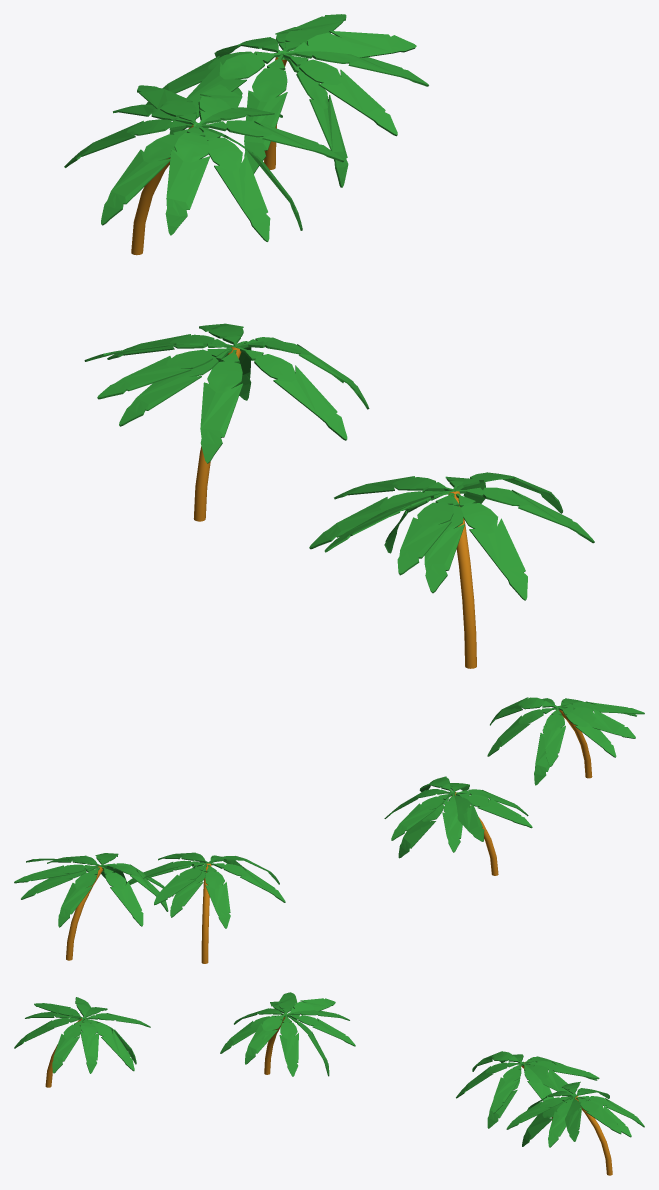
The model's file is Coqueiros.fbx.
The picture shows the model from 3 angles, top to bottom: view 1: azimuth 30°, elevation 25°; view 2: azimuth 150°, elevation 25°; view 3: azimuth 270°, elevation 25°; orthographic projection. The views are drawn at different scales.
Parts seen in each view (by area): view 1: Cylinder001.001, Cylinder001.002, Cylinder001.006, Cylinder001.005; view 2: Cylinder001.006, Cylinder001.005, Cylinder001.002, Cylinder001.001; view 3: Cylinder001.005, Cylinder001.002, Cylinder001.006, Cylinder001.001.
Boxes of the visible parts, x1=… form: Cylinder001.001: x1=64, y1=84, x2=344, y2=255; Cylinder001.002: x1=146, y1=14, x2=428, y2=187; Cylinder001.006: x1=309, y1=472, x2=594, y2=668; Cylinder001.005: x1=84, y1=323, x2=369, y2=521; Cylinder001.006: x1=487, y1=697, x2=644, y2=785; Cylinder001.005: x1=384, y1=776, x2=532, y2=875; Cylinder001.002: x1=14, y1=853, x2=173, y2=960; Cylinder001.001: x1=126, y1=852, x2=285, y2=963; Cylinder001.005: x1=220, y1=992, x2=355, y2=1076; Cylinder001.002: x1=506, y1=1081, x2=644, y2=1175; Cylinder001.006: x1=14, y1=997, x2=150, y2=1087; Cylinder001.001: x1=456, y1=1051, x2=599, y2=1128.
Bounding box in the file's own units: 423 × 101 × 766.
